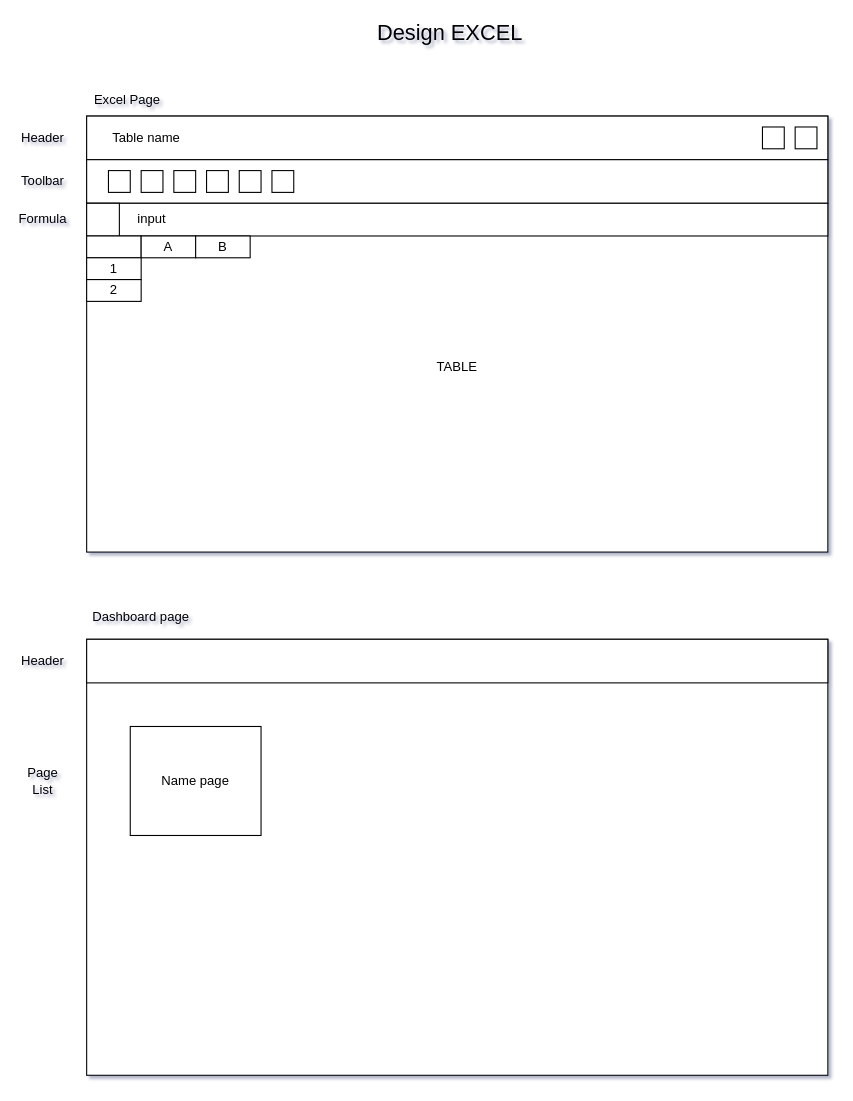
Image size: 853x1101. Some labels were removed from this diagram. The shapes that lost their labels are listed below. From the top down, each one's centre as x and y in pixels, then its label:
At point (102, 219): "fx".
At point (457, 660): "Excel Dashboard".
